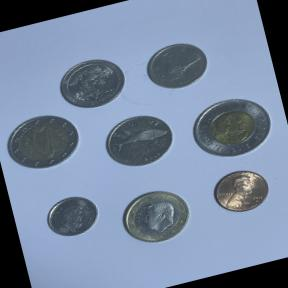1 Euro-B: (110, 176, 204, 255)
2 Euro-B: (0, 105, 86, 179)
Canada-10cent-B: (39, 185, 109, 246)
Canada-2Dollar-B: (182, 85, 284, 169)
Croatia-2Kune-B: (96, 104, 182, 176)
US-1cent-B: (205, 158, 282, 224)
US-25cent-B: (52, 48, 133, 116)
